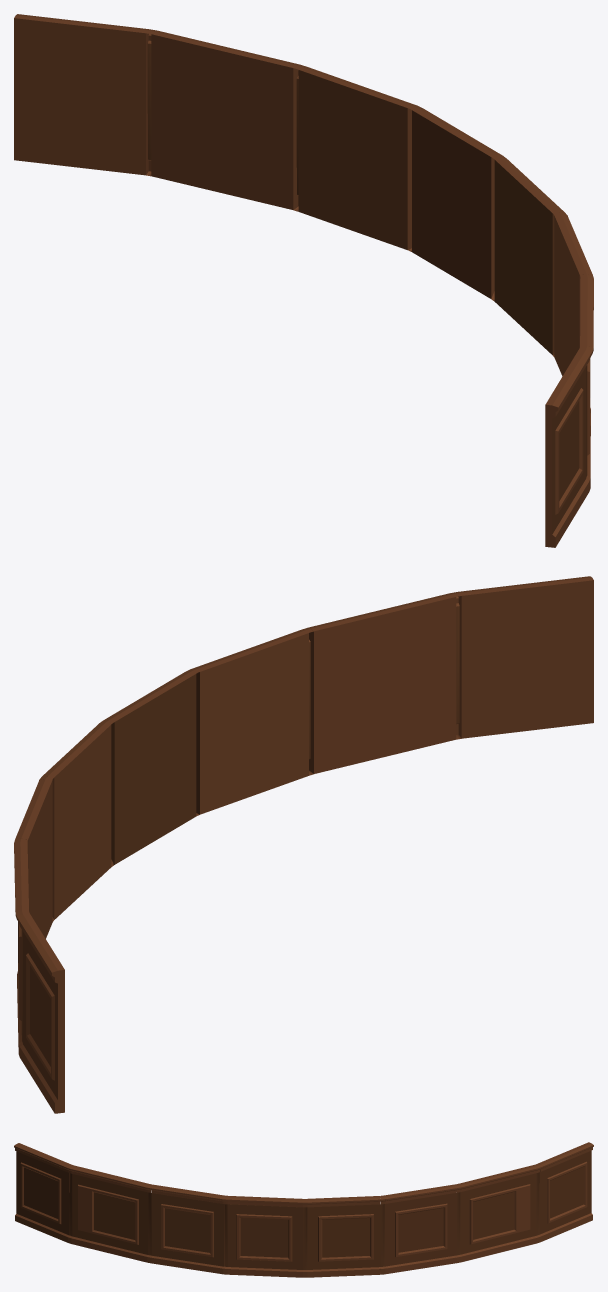
Rendered from Moduls_Escenari_decoracio.fbx.
3 renders of one model, top to bottom at view 1: azimuth 30°, elevation 25°; view 2: azimuth 150°, elevation 25°; view 3: azimuth 270°, elevation 25°, orthographic. The views are drawn at different scales.
Visible parts, largest first — view 1: prop_wall_trim_floor_1m.007, prop_wall_trim_floor_1m.005, prop_wall_trim_floor_1m.003, prop_wall_trim_floor_1m, prop_wall_trim_floor_1m.001, prop_wall_trim_floor_1m.011, prop_wall_trim_floor_1m.009, prop_wall_trim_floor_1m.010; view 2: prop_wall_trim_floor_1m.010, prop_wall_trim_floor_1m.011, prop_wall_trim_floor_1m.009, prop_wall_trim_floor_1m.001, prop_wall_trim_floor_1m, prop_wall_trim_floor_1m.005, prop_wall_trim_floor_1m.003, prop_wall_trim_floor_1m.007; view 3: prop_wall_trim_floor_1m.010, prop_wall_trim_floor_1m.007, prop_wall_trim_floor_1m.001, prop_wall_trim_floor_1m, prop_wall_trim_floor_1m.003, prop_wall_trim_floor_1m.009, prop_wall_trim_floor_1m.011, prop_wall_trim_floor_1m.005, prop_wall_trim_floor_corner (2) Variant.002, prop_wall_trim_floor_corner (2) Variant, prop_wall_trim_floor_corner (2) Variant.003, prop_wall_trim_floor_corner (2) Variant.007 (+3 smaller).
Boxes of the visible parts, box(x1,y1,x2,y2) form: prop_wall_trim_floor_1m.007: box(151, 30, 299, 209); prop_wall_trim_floor_1m.005: box(14, 14, 148, 175); prop_wall_trim_floor_1m.003: box(298, 67, 415, 250); prop_wall_trim_floor_1m: box(412, 108, 501, 298); prop_wall_trim_floor_1m.001: box(494, 158, 564, 355); prop_wall_trim_floor_1m.011: box(545, 348, 592, 547); prop_wall_trim_floor_1m.009: box(554, 215, 592, 376); prop_wall_trim_floor_1m.010: box(580, 277, 593, 477); prop_wall_trim_floor_1m.010: box(307, 593, 456, 773); prop_wall_trim_floor_1m.011: box(458, 576, 593, 738); prop_wall_trim_floor_1m.009: box(192, 630, 308, 814); prop_wall_trim_floor_1m.001: box(104, 671, 196, 864); prop_wall_trim_floor_1m: box(42, 723, 111, 919); prop_wall_trim_floor_1m.005: box(17, 913, 64, 1113); prop_wall_trim_floor_1m.003: box(15, 779, 52, 938); prop_wall_trim_floor_1m.007: box(14, 842, 28, 1046); prop_wall_trim_floor_1m.010: box(70, 1165, 149, 1262); prop_wall_trim_floor_1m.007: box(459, 1165, 537, 1262); prop_wall_trim_floor_1m.001: box(227, 1196, 303, 1277); prop_wall_trim_floor_1m: box(307, 1196, 380, 1277); prop_wall_trim_floor_1m.003: box(383, 1184, 457, 1274); prop_wall_trim_floor_1m.009: box(151, 1184, 224, 1274); prop_wall_trim_floor_1m.011: box(14, 1143, 71, 1242); prop_wall_trim_floor_1m.005: box(537, 1142, 593, 1241); prop_wall_trim_floor_corner (2) Variant.002: box(380, 1195, 385, 1274); prop_wall_trim_floor_corner (2) Variant: box(302, 1199, 307, 1277); prop_wall_trim_floor_corner (2) Variant.003: box(455, 1183, 461, 1262); prop_wall_trim_floor_corner (2) Variant.007: box(223, 1195, 227, 1274).
Size of the model in its own units: 184 by 110 by 755.
